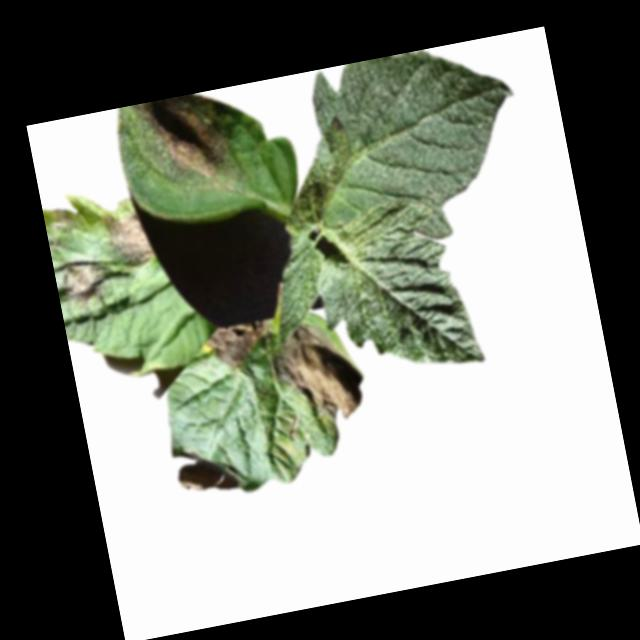Late_blight: (265, 312, 370, 430), (136, 89, 237, 192), (202, 316, 275, 377), (170, 439, 239, 498), (101, 208, 155, 272), (57, 252, 111, 309), (52, 206, 75, 229)
